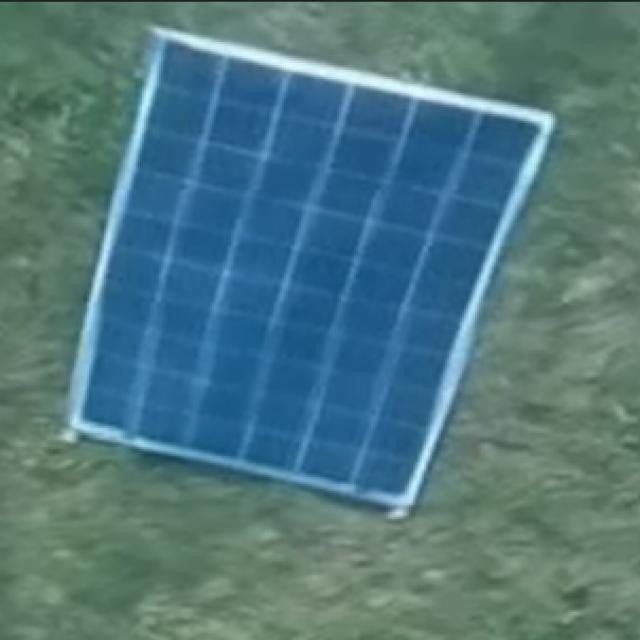no faulty: (69, 39, 549, 510)
